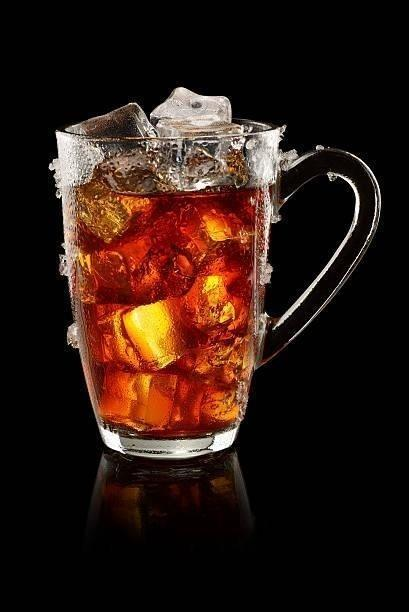glass-mug: (51, 107, 383, 460)
